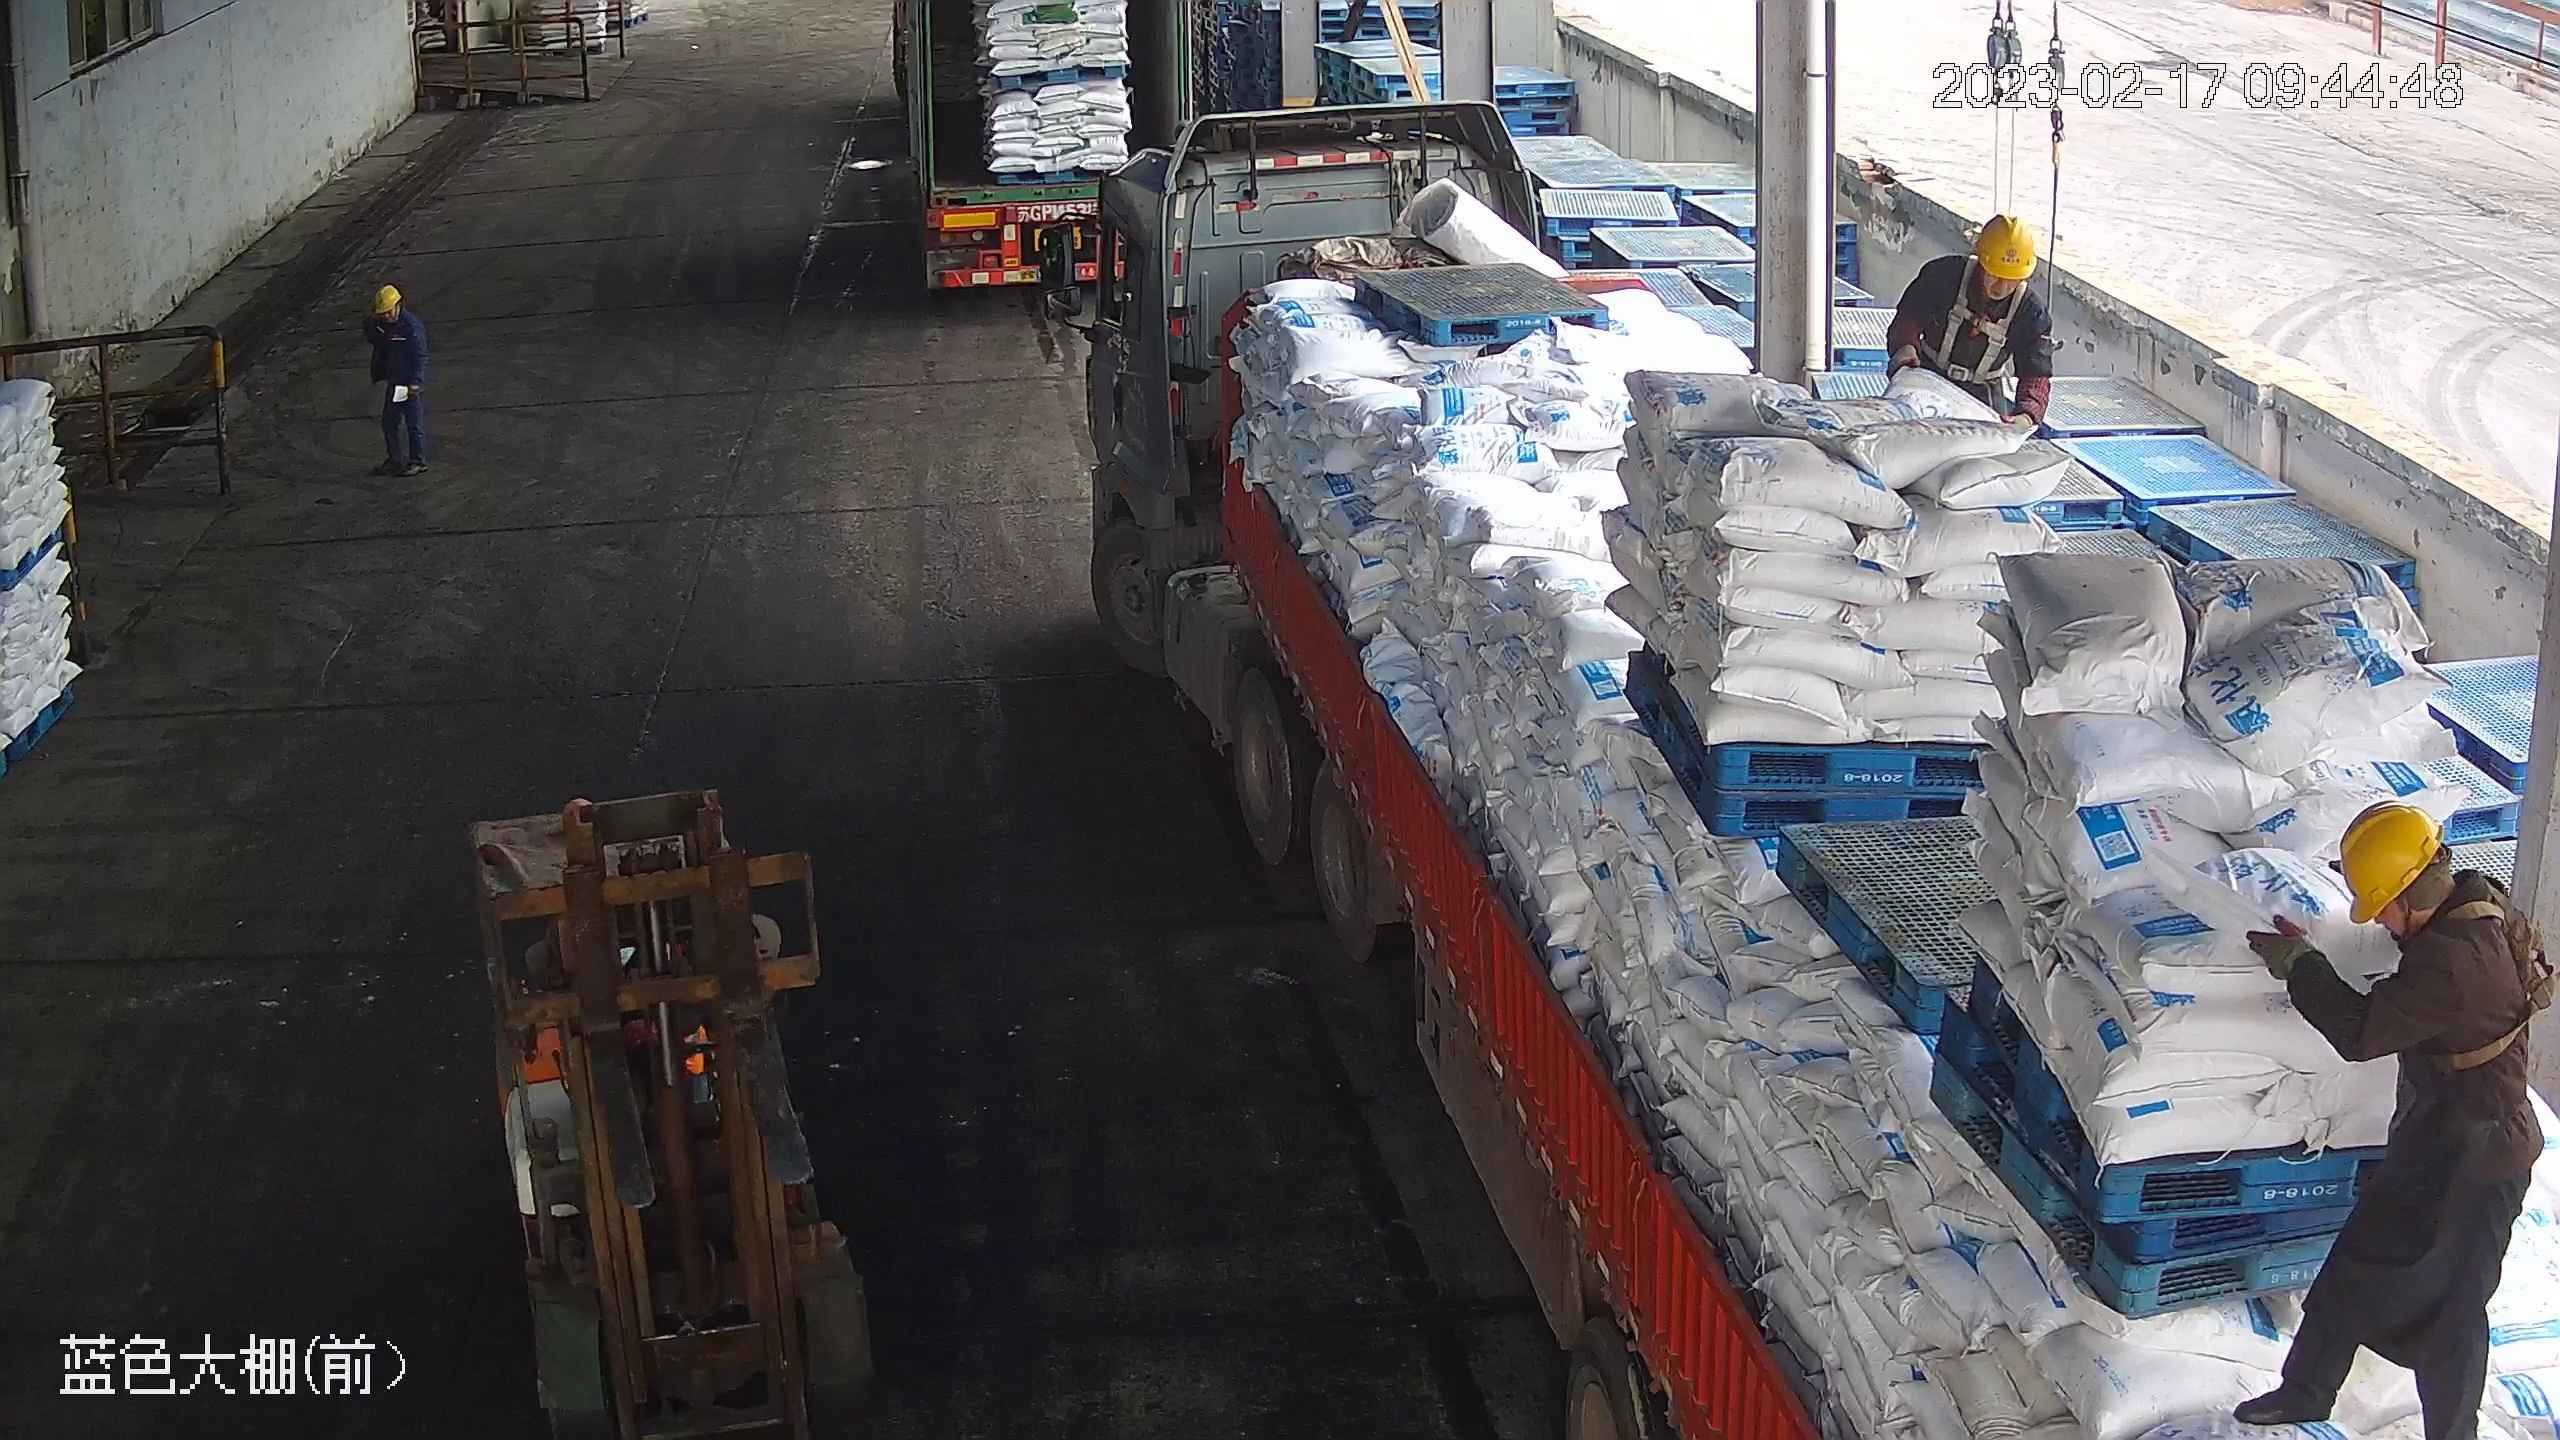belt: (2423, 878, 2553, 1071), (1950, 281, 2022, 370)
head: (2279, 800, 2548, 1035), (1915, 203, 2049, 332), (365, 285, 425, 352)
helmet: (2332, 795, 2450, 925), (1969, 203, 2044, 283), (373, 284, 400, 307)
people: (2243, 794, 2545, 1437), (366, 282, 429, 474)
truck: (1044, 144, 2554, 1440), (877, 1, 1222, 281)
